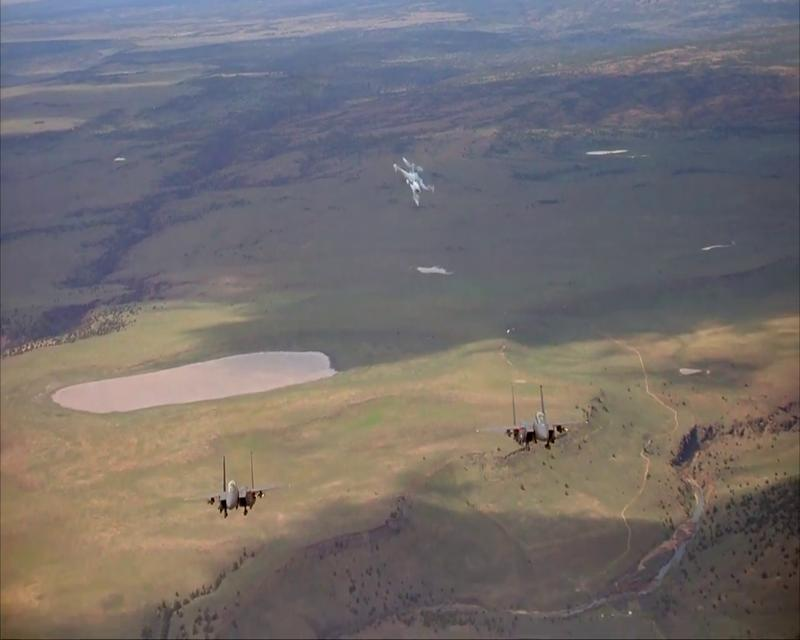UAV: (477, 383, 580, 451), (204, 450, 279, 518), (392, 156, 437, 208)
